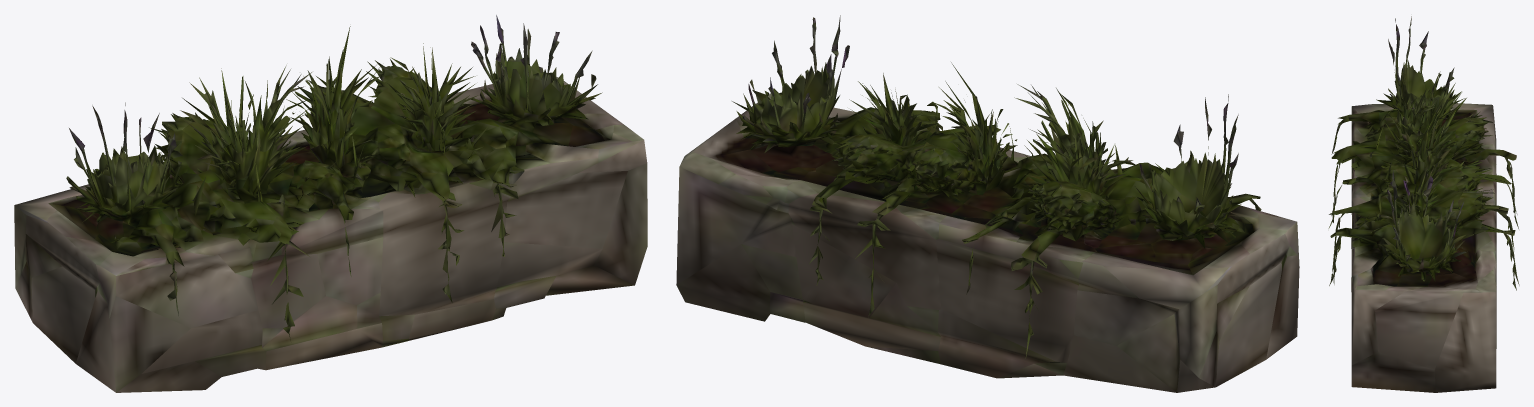
Rendered from veh-j-planter.glb.
The picture shows the model from 3 angles, left to right: view 1: azimuth 30°, elevation 25°; view 2: azimuth 150°, elevation 25°; view 3: azimuth 270°, elevation 25°; orthographic projection. The views are drawn at different scales.
Parts seen in each view (by area): view 1: tripo_node_14649471-c7ba-41db-8152-9d7694a6a79d; view 2: tripo_node_14649471-c7ba-41db-8152-9d7694a6a79d; view 3: tripo_node_14649471-c7ba-41db-8152-9d7694a6a79d.
Part boxes in pixels (x1,y1,x2,y2): tripo_node_14649471-c7ba-41db-8152-9d7694a6a79d: (14, 15, 647, 392); tripo_node_14649471-c7ba-41db-8152-9d7694a6a79d: (676, 15, 1299, 392); tripo_node_14649471-c7ba-41db-8152-9d7694a6a79d: (1328, 16, 1519, 392).
Bounding box in the file's own units: 0.98 × 0.4884 × 0.4184.
1 material, 1 textured.
